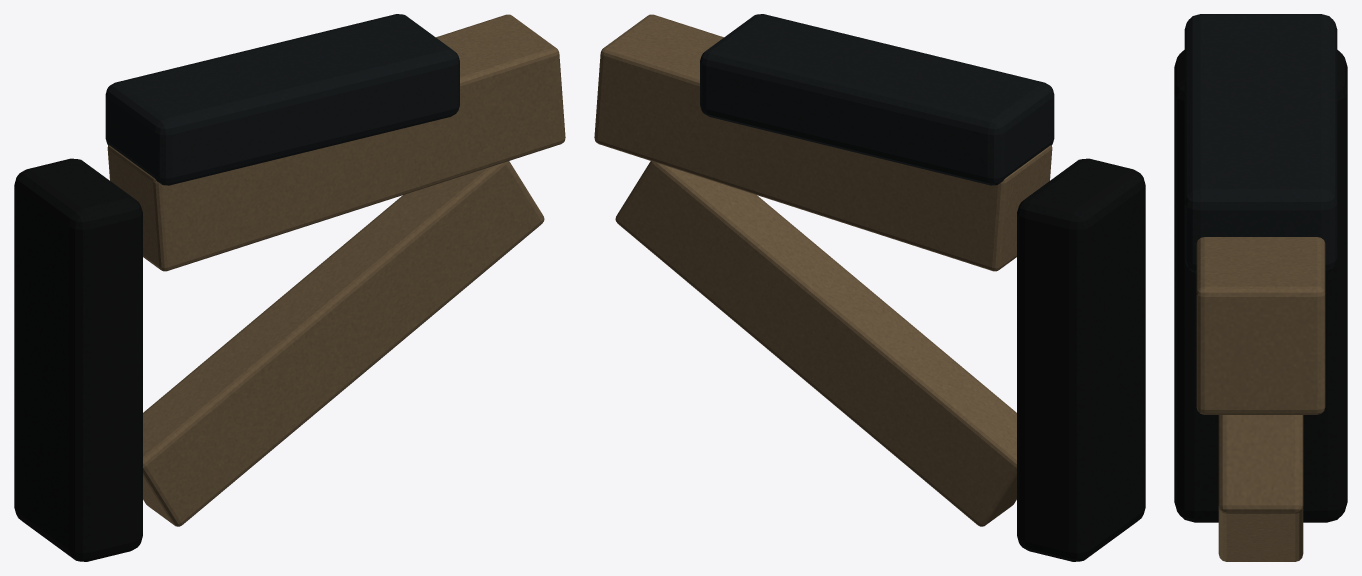
The model's file is wisp02.stock.standard.glb.
3 views of the same model, side by side, from view 1: azimuth 30°, elevation 25°; view 2: azimuth 150°, elevation 25°; view 3: azimuth 270°, elevation 25° (orthographic). The views are drawn at different scales.
Visible parts, largest first — view 1: VIS_wisp02_stock_standard; view 2: VIS_wisp02_stock_standard; view 3: VIS_wisp02_stock_standard.
Part boxes in pixels (x1=…): VIS_wisp02_stock_standard: x1=14, y1=14, x2=565, y2=561; VIS_wisp02_stock_standard: x1=594, y1=14, x2=1145, y2=561; VIS_wisp02_stock_standard: x1=1174, y1=14, x2=1347, y2=561.
Bounding box in the file's own units: 0.1811 × 0.1458 × 0.043.
3 materials, 3 textured.
